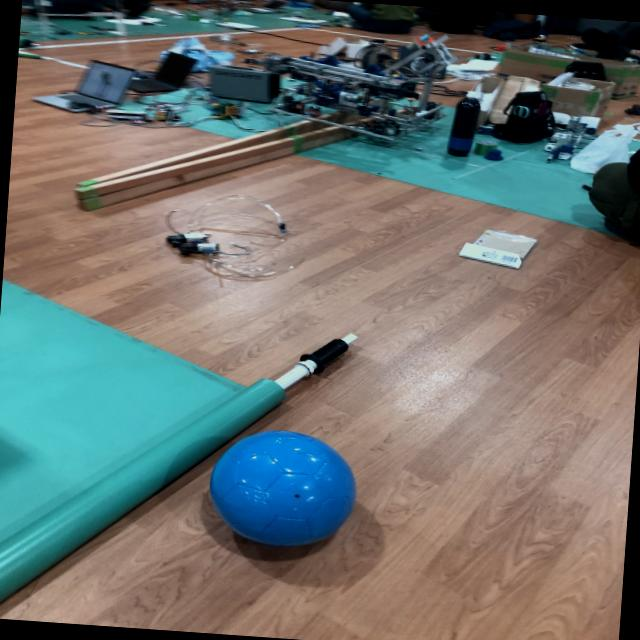blue_ball: (210, 426, 360, 548)
